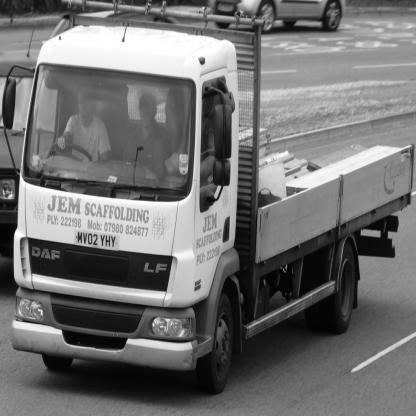truck: (28, 12, 416, 386)
